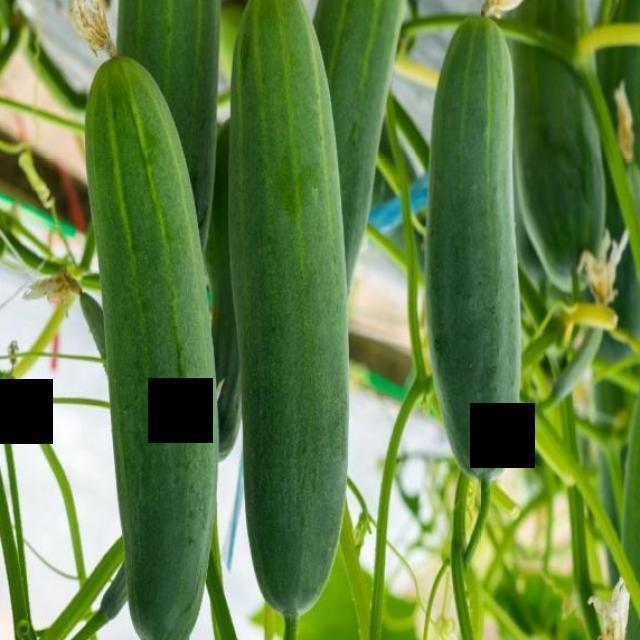cucumber: (84, 60, 220, 640), (228, 0, 352, 622), (426, 15, 518, 478), (621, 346, 640, 640)
